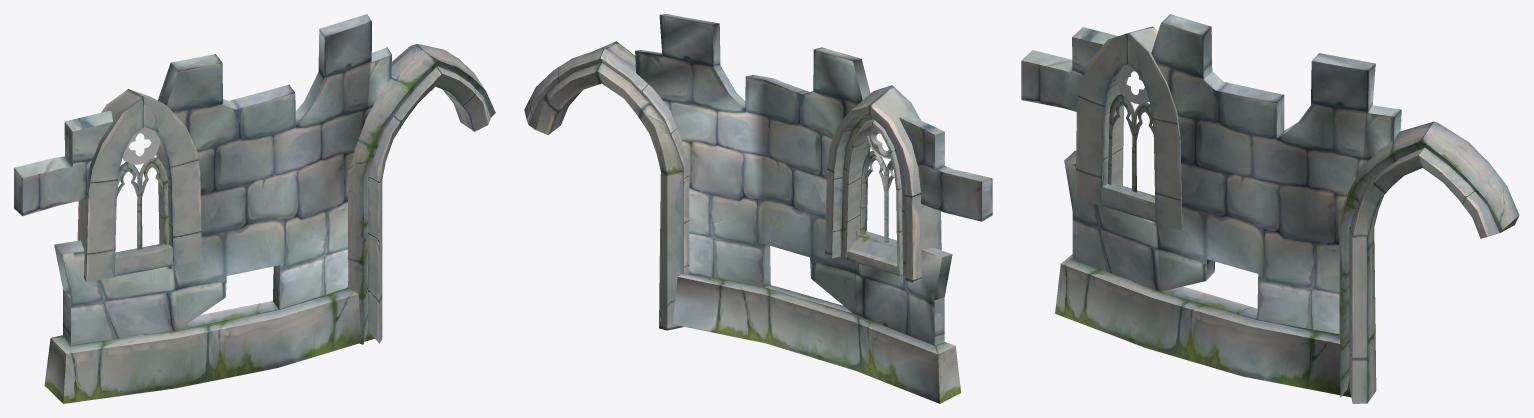
File: geo_broken_wall.fbx
3 views of the same model, side by side, from view 1: azimuth 30°, elevation 25°; view 2: azimuth 150°, elevation 25°; view 3: azimuth 330°, elevation 25° (orthographic). The views are drawn at different scales.
Parts seen in each view (by area): view 1: Circle.008; view 2: Circle.008; view 3: Circle.008.
Boxes of the visible parts, x1,y1,x2,y2 form: Circle.008: [14, 14, 495, 403]; Circle.008: [524, 14, 992, 403]; Circle.008: [1021, 14, 1519, 403].
Size of the model in its own units: 8.76 by 5.65 by 1.19.
